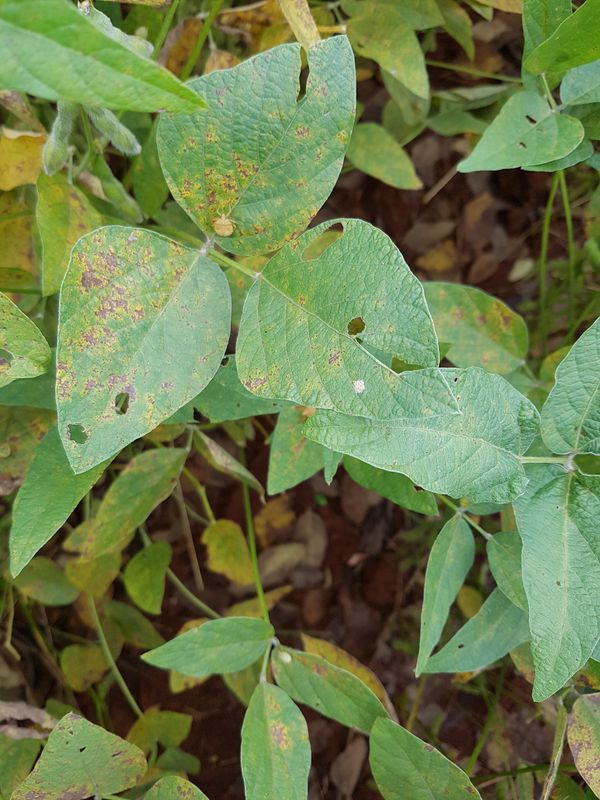Euschistus_heros_ninfa: (205, 203, 243, 243)
